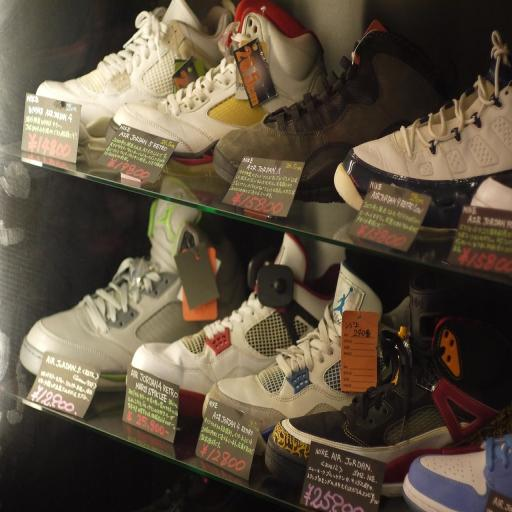shoe: (265, 273, 512, 495), (20, 190, 246, 390), (214, 21, 446, 202), (132, 234, 341, 418), (203, 260, 409, 438), (107, 0, 325, 165), (334, 31, 512, 228), (36, 0, 233, 145), (403, 434, 512, 512), (470, 173, 512, 211)
